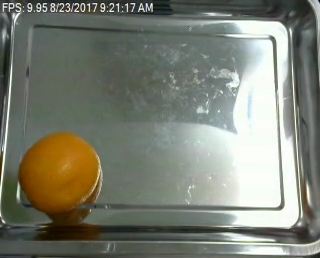Orange: (19, 133, 101, 213)
